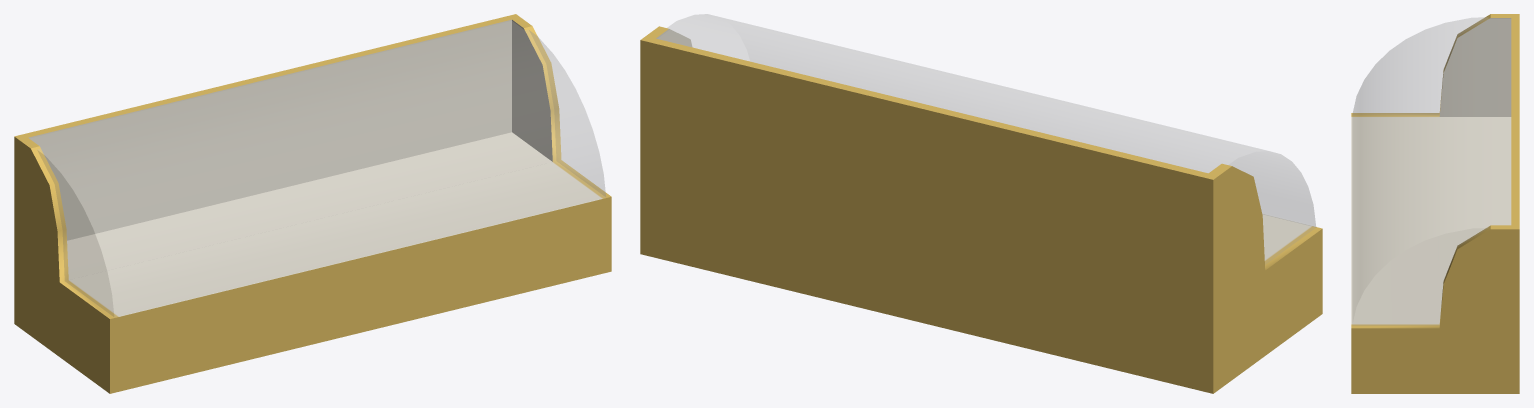
Rendered from Shelf3.fbx.
3 views of the same model, side by side, from view 1: azimuth 30°, elevation 25°; view 2: azimuth 150°, elevation 25°; view 3: azimuth 270°, elevation 25° (orthographic). The views are drawn at different scales.
Visible parts, largest first — view 1: polySurface161; view 2: polySurface161; view 3: polySurface161.
Part boxes in pixels (left/top/right/bottom): polySurface161: left=14, top=14, right=611, bottom=393; polySurface161: left=640, top=14, right=1322, bottom=393; polySurface161: left=1351, top=14, right=1519, bottom=393.
Size of the model in its own units: 157 by 56.07 by 51.88.
2 materials, 1 textured.
